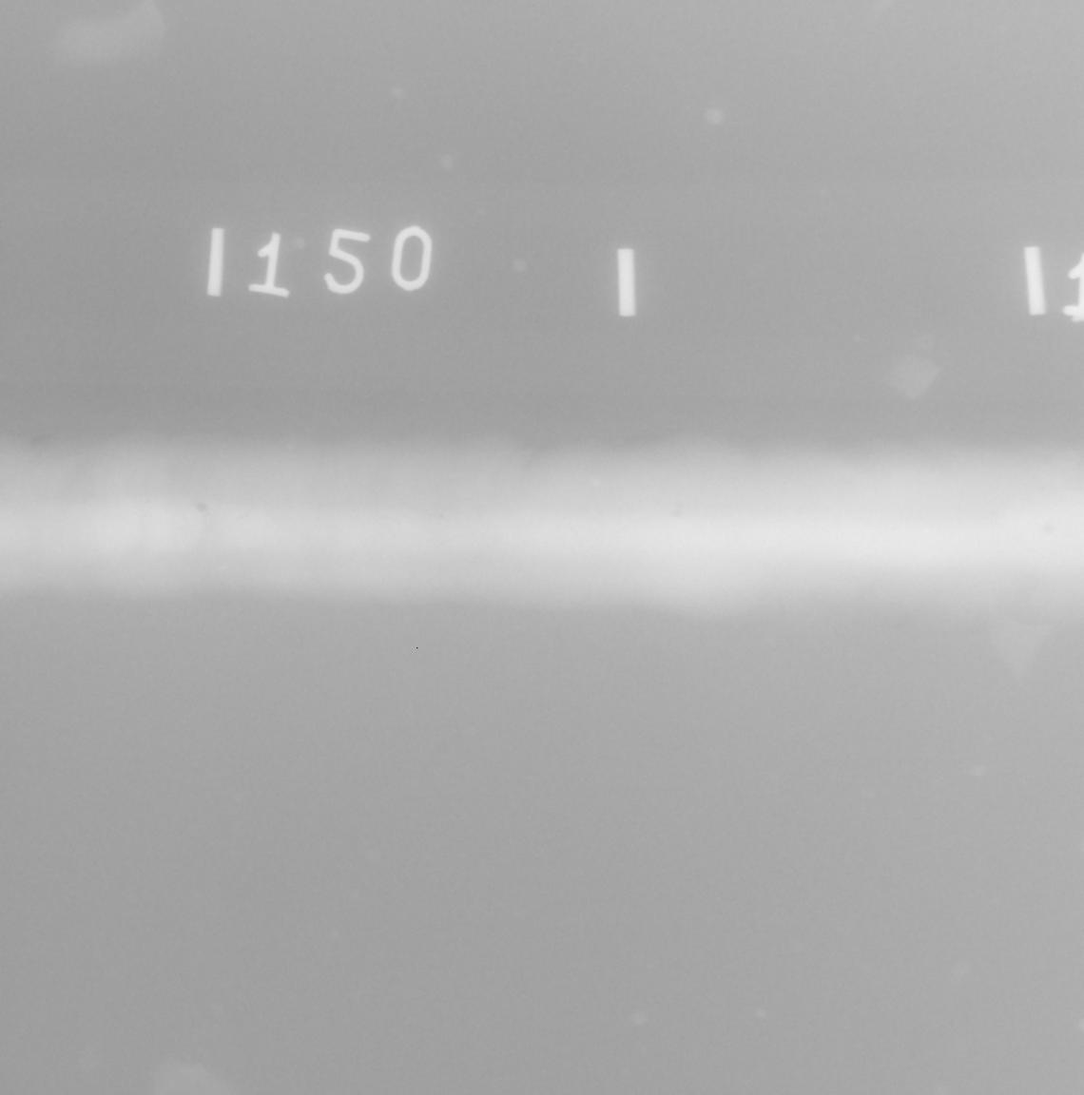Pore/Porosity: (195, 503, 208, 512), (1042, 525, 1051, 534), (671, 511, 680, 518), (1011, 538, 1019, 544), (437, 514, 443, 519)
Undercut: (33, 433, 52, 442)
